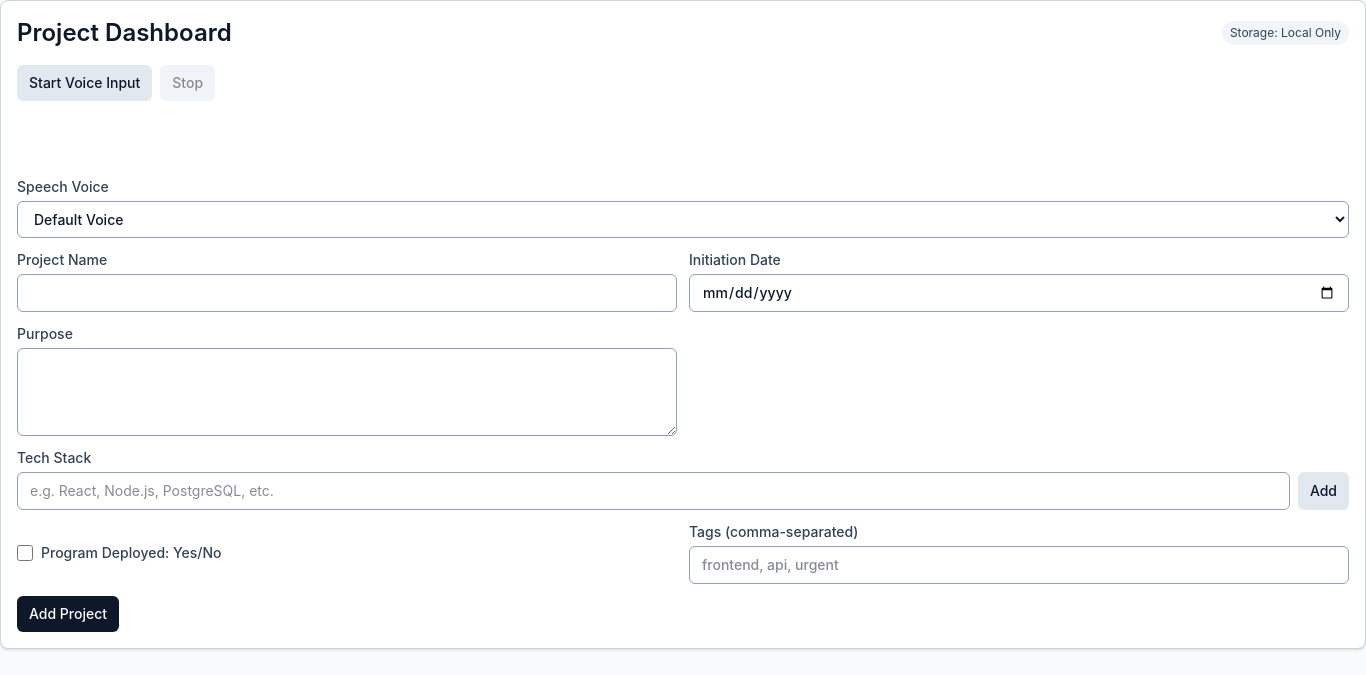
DashboardPage › shows validation errors when required fields are empty
Expected: the heading "Project Dashboard" is shown, [17,17,232,49]
Click the button "Add Project" at {"x": 68, "y": 614}, box [17,596,119,632]
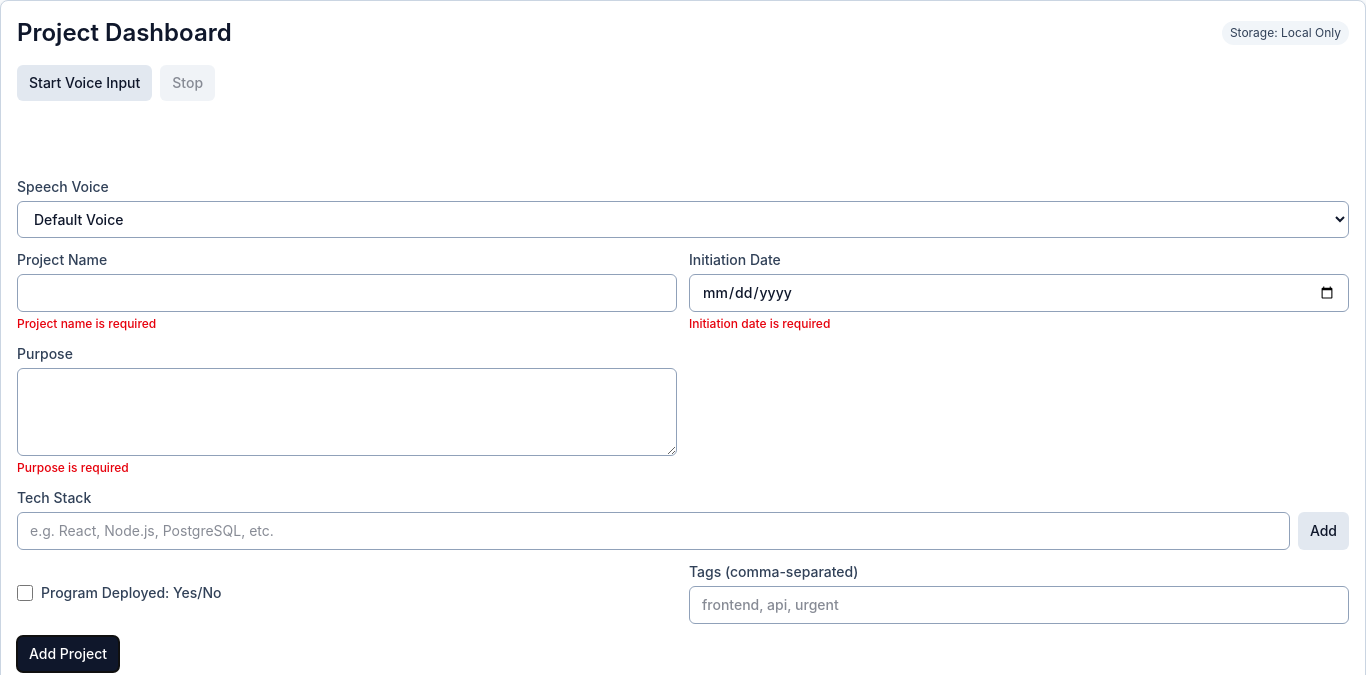
Result: the text "Project name is required" is shown at [17,316,156,331]
Result: the text "Initiation date is required" is shown at [689,316,830,331]
Result: the text "Purpose is required" is shown at [17,460,129,475]
